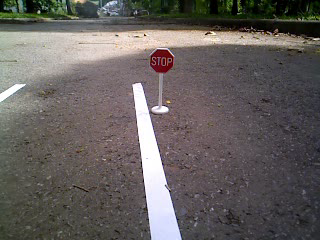Stop: (146, 46, 176, 76)
